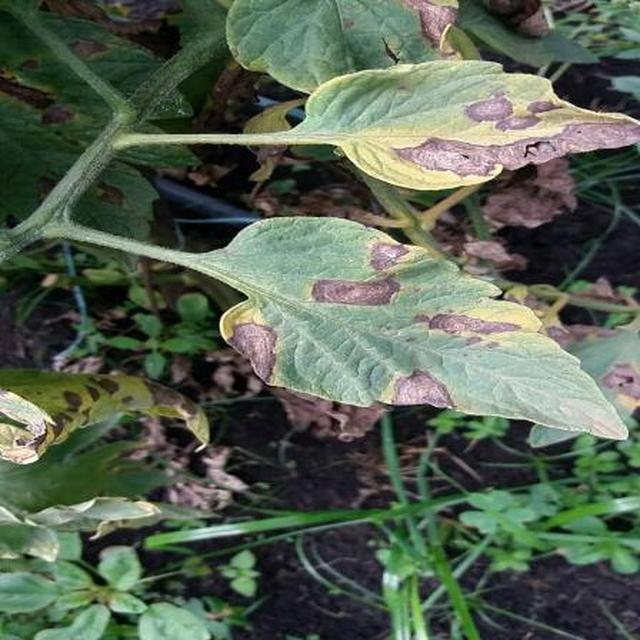Early Blight Leaf: (480, 177, 640, 466)
